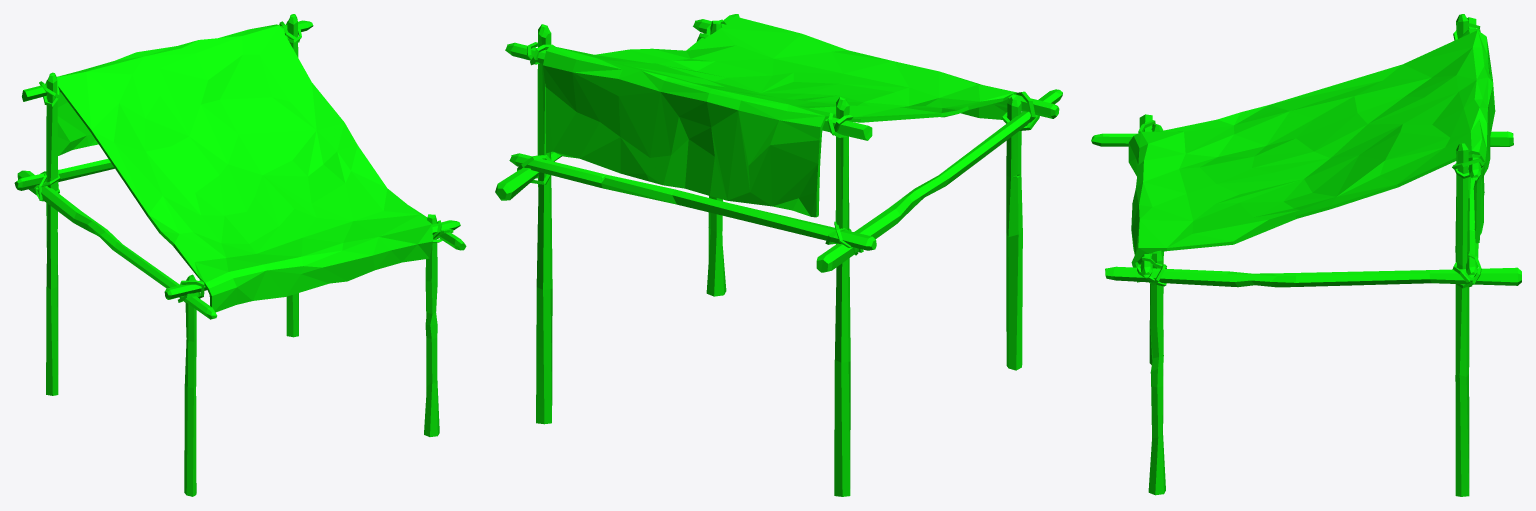
File: SM_Market_Stall_A_Short_Plain.fbx
3 views of the same model, side by side, from view 1: azimuth 30°, elevation 25°; view 2: azimuth 150°, elevation 25°; view 3: azimuth 270°, elevation 25° (orthographic). The views are drawn at different scales.
Visible parts, largest first — view 1: market-stall-a-short-plain; view 2: market-stall-a-short-plain; view 3: market-stall-a-short-plain.
Boxes of the visible parts, x1,y1,x2,y2 form: market-stall-a-short-plain: (14, 14, 466, 496); market-stall-a-short-plain: (495, 14, 1062, 496); market-stall-a-short-plain: (1091, 14, 1521, 496).
Bounding box in the file's own units: 3.71 × 3.82 × 4.24.
